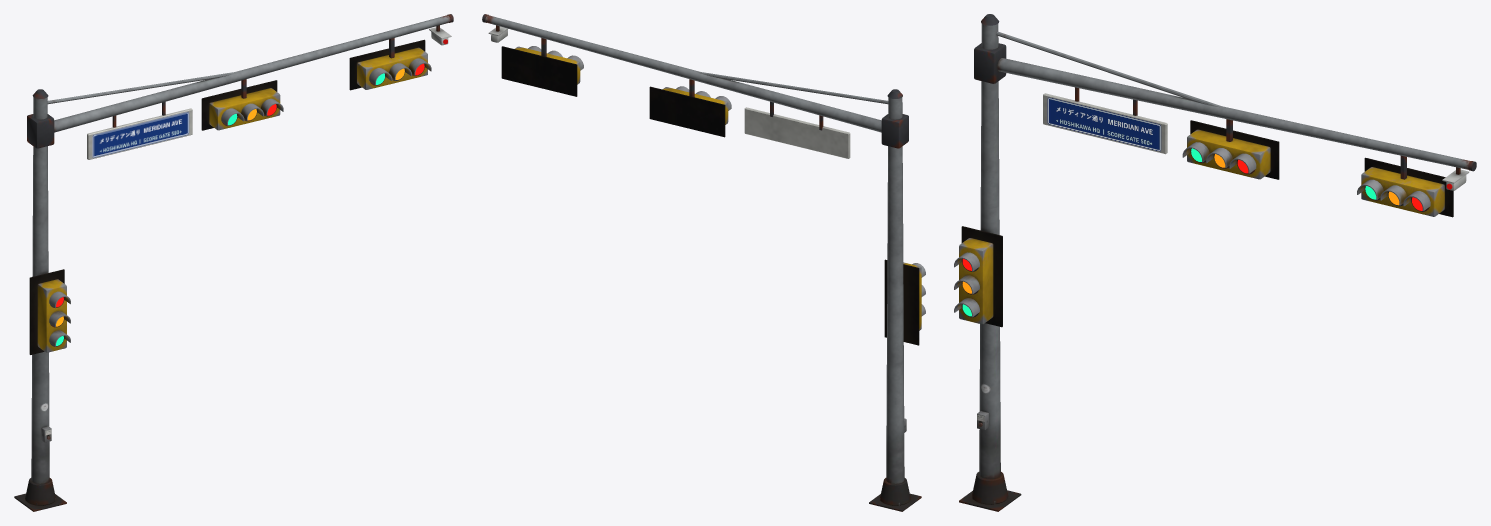
Rendered from traffic_light_mast.glb.
3 views of the same model, side by side, from view 1: azimuth 30°, elevation 25°; view 2: azimuth 150°, elevation 25°; view 3: azimuth 330°, elevation 25° (orthographic). The views are drawn at different scales.
Parts seen in each view (by area): view 1: traffic_light_mast; view 2: traffic_light_mast; view 3: traffic_light_mast.
Part boxes in pixels (x1,y1,x2,y2): traffic_light_mast: (14, 14, 453, 511); traffic_light_mast: (482, 14, 925, 511); traffic_light_mast: (954, 14, 1476, 511).
Size of what is drawn, in the model's own units: 6.95 by 6.36 by 0.908.
Materials: 1 (1 with a texture image).
